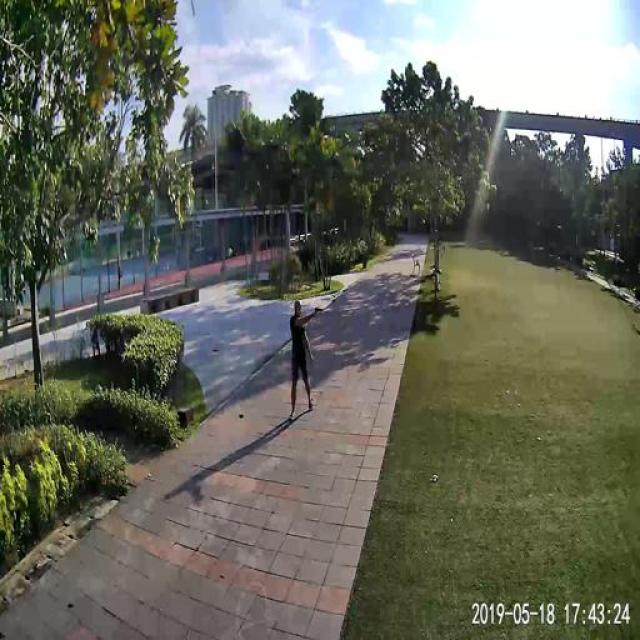Gun: (303, 302, 339, 323)
